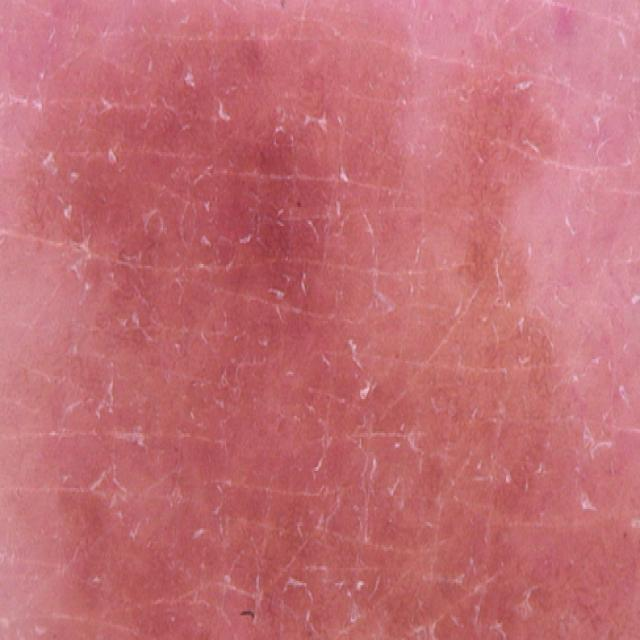Keratosis: (35, 57, 307, 422), (261, 332, 573, 640)
